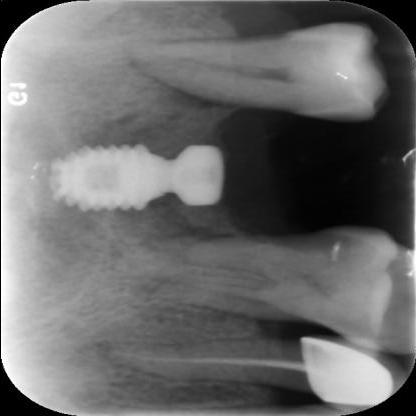Bicon: (42, 140, 227, 216)
